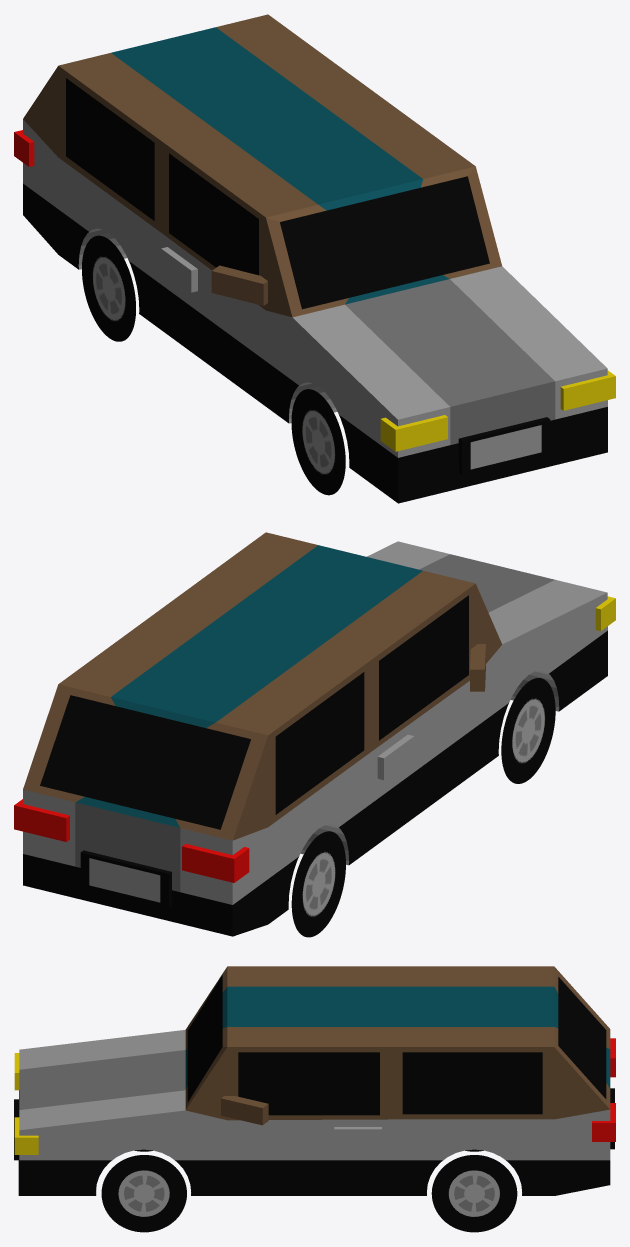
File: Mobil_2_Coklat_D.fbx
3 views of the same model, one above another, from view 1: azimuth 30°, elevation 25°; view 2: azimuth 150°, elevation 25°; view 3: azimuth 270°, elevation 25° (orthographic). The views are drawn at different scales.
Visible parts, largest first — view 1: Mobil2; view 2: Mobil2; view 3: Mobil2.
Part boxes in pixels (x1,y1,x2,y2): Mobil2: (14,14,615,503); Mobil2: (14,532,615,937); Mobil2: (14,966,615,1232).
Bounding box in the file's own units: 521 × 429 × 1261.
5 materials, 3 textured.
